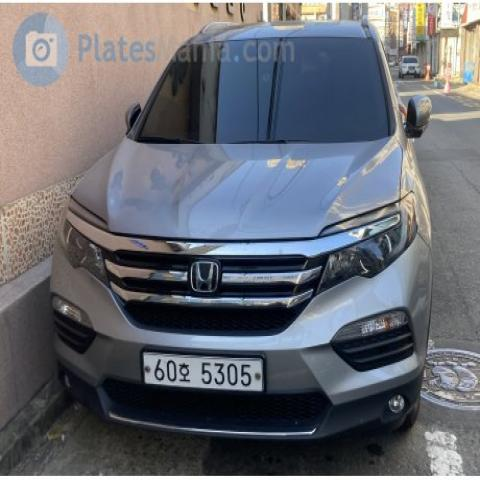LP: (140, 344, 266, 400)
